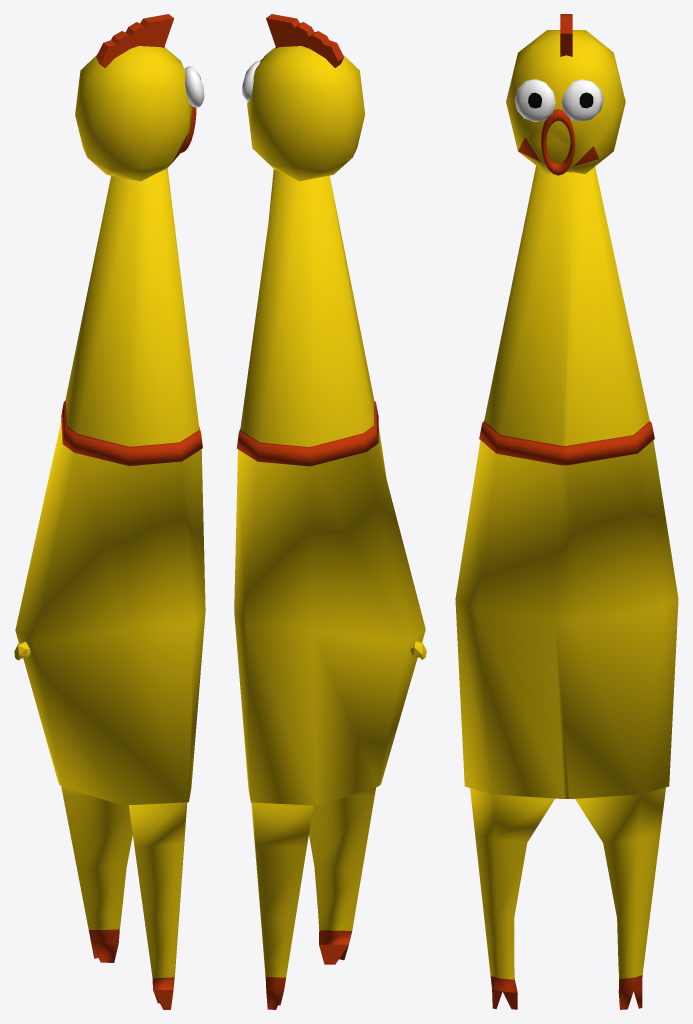
Rendered from chickenGunModel.fbx.
3 views of the same model, side by side, from view 1: azimuth 30°, elevation 25°; view 2: azimuth 150°, elevation 25°; view 3: azimuth 270°, elevation 25° (orthographic). The views are drawn at different scales.
Visible parts, largest first — view 1: Torus.001; view 2: Torus.001; view 3: Torus.001.
Part boxes in pixels (bbox=[...]): Torus.001: bbox=[14, 14, 205, 1009]; Torus.001: bbox=[234, 14, 426, 1009]; Torus.001: bbox=[455, 14, 678, 1009].
Size of the model in its own units: 11.87 by 61.71 by 12.54.
